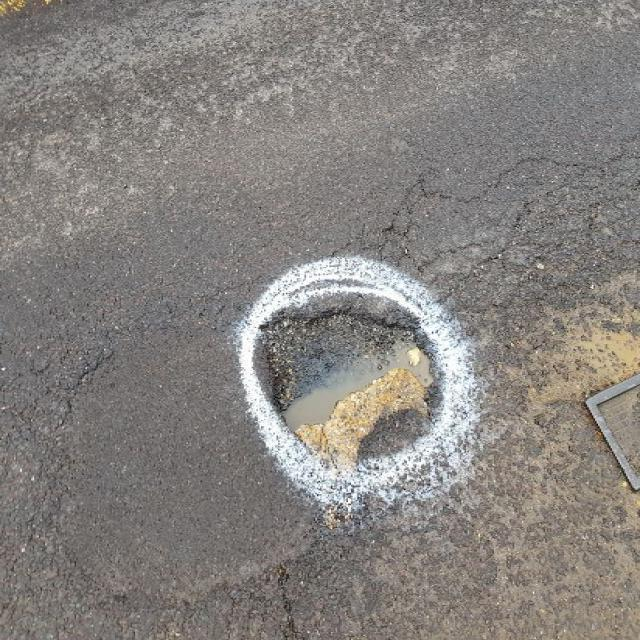Pothole: (248, 300, 449, 473)
